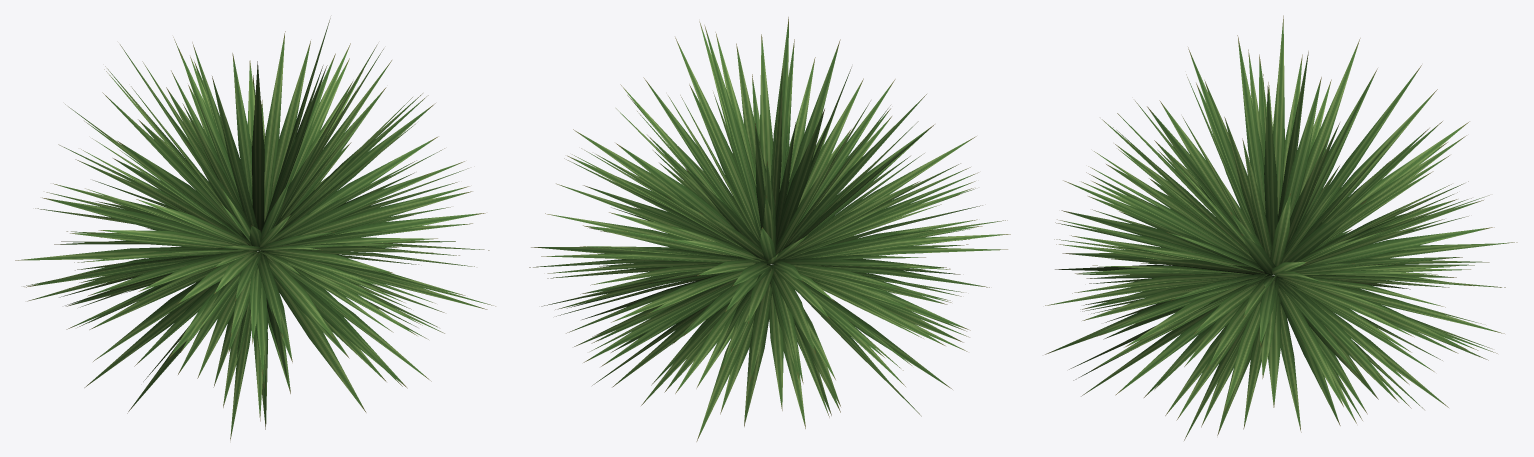
Rendered from mm6_deco_cac3.glb.
3 views of the same model, side by side, from view 1: azimuth 30°, elevation 25°; view 2: azimuth 150°, elevation 25°; view 3: azimuth 270°, elevation 25° (orthographic). The views are drawn at different scales.
Visible parts, largest first — view 1: Plant; view 2: Plant; view 3: Plant.
Boxes of the visible parts, x1,y1,x2,y2 form: Plant: (15,18,495,440); Plant: (529,17,1010,441); Plant: (1045,15,1517,440).
Bounding box in the file's own units: 2.5 × 1.88 × 2.43.
1 material, 1 textured.
